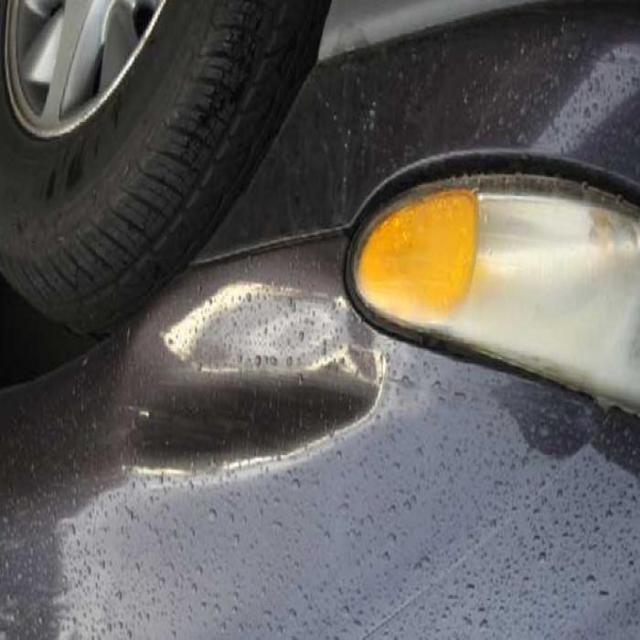dent: (101, 265, 390, 494)
